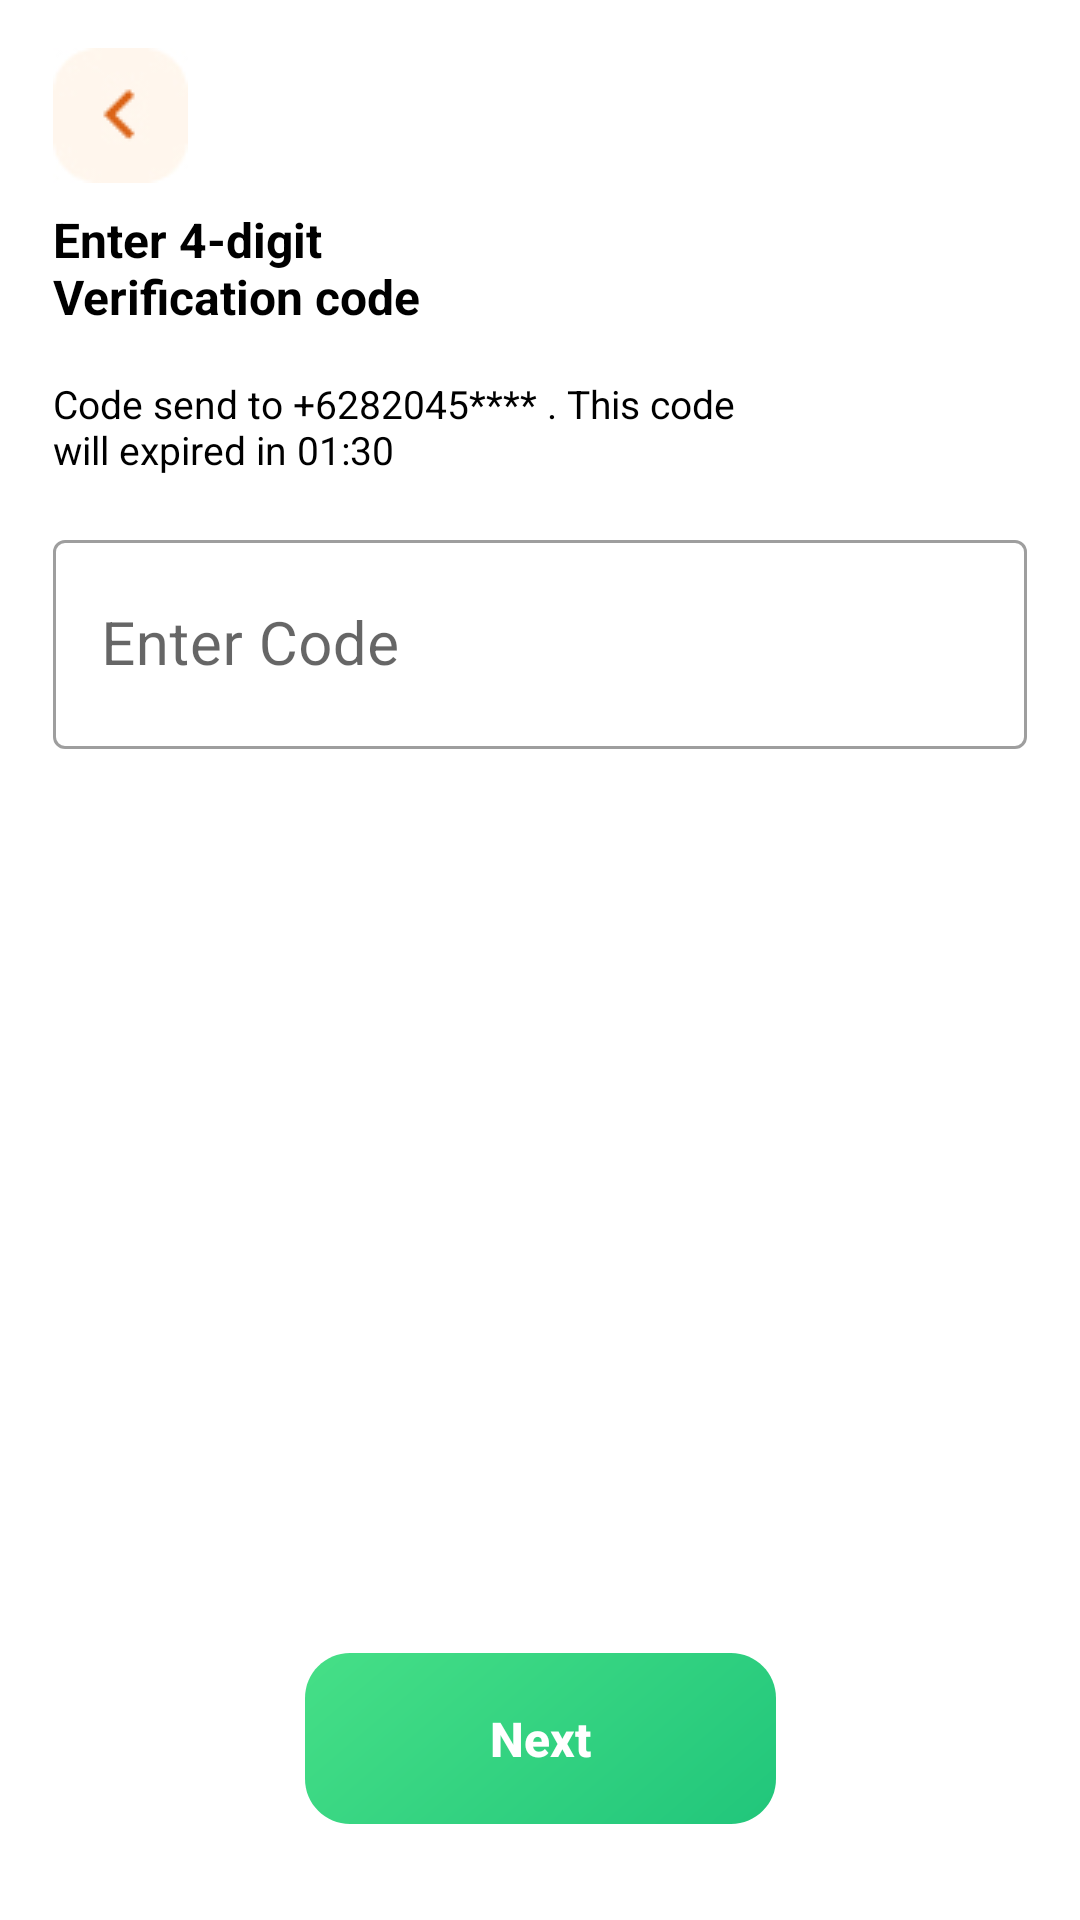

Icons on this 1080 x 1920 Android screen, each with the point to tap as (x,y):
iconback: (119,115)
